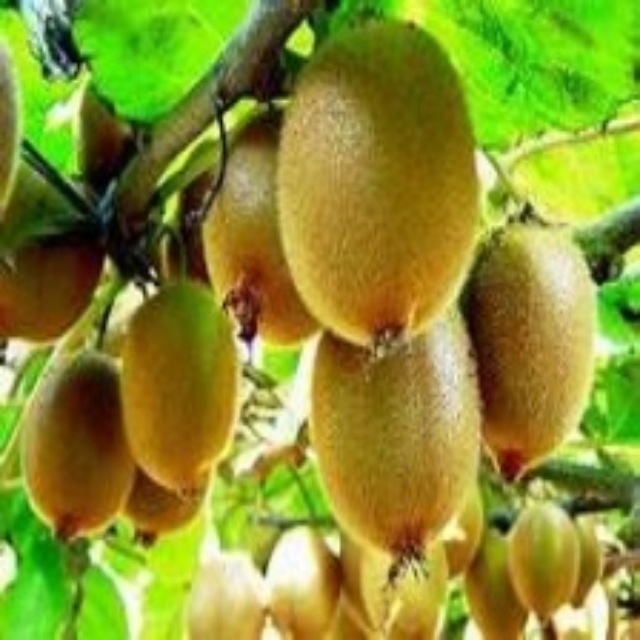kiwi: (286, 31, 474, 347), (310, 320, 490, 565), (464, 230, 592, 472), (199, 135, 332, 362), (127, 289, 242, 496), (25, 358, 138, 547), (509, 499, 607, 618), (264, 522, 340, 633)
